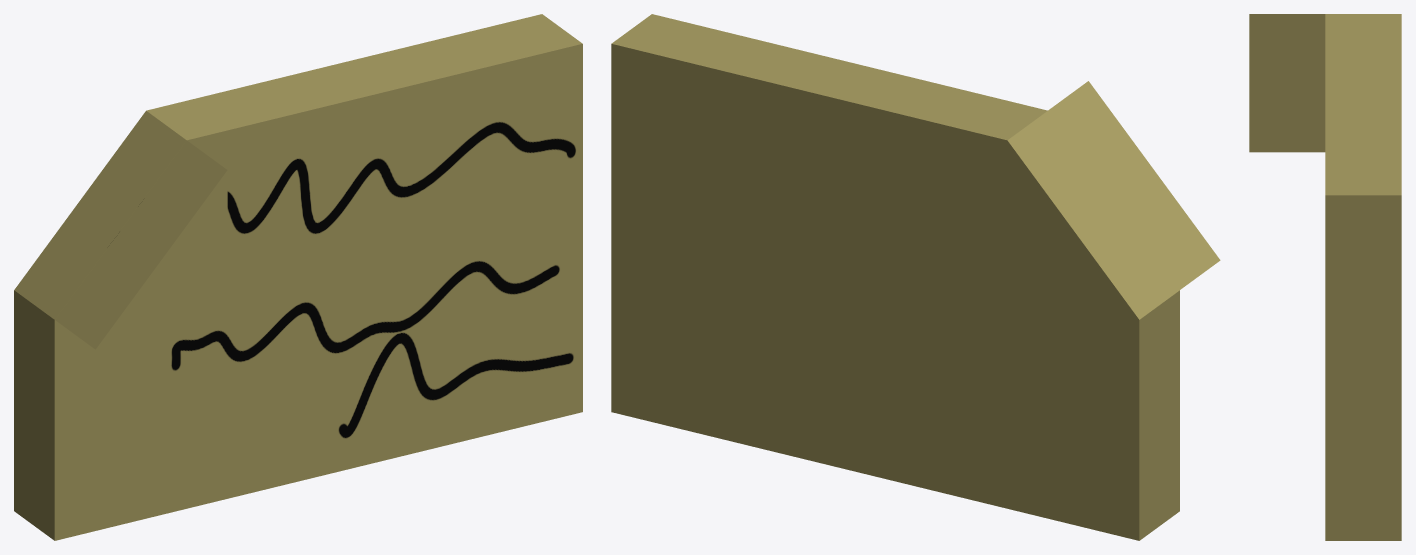
Rendered from notecard.fbx.
The picture shows the model from 3 angles, left to right: view 1: azimuth 30°, elevation 25°; view 2: azimuth 150°, elevation 25°; view 3: azimuth 270°, elevation 25°; orthographic projection. The views are drawn at different scales.
Parts seen in each view (by area): view 1: pCube1, pCube2; view 2: pCube1, pCube2; view 3: pCube1, pCube2.
Boxes of the visible parts, x1,y1,x2,y2 form: pCube1: [14, 14, 582, 540]; pCube2: [55, 140, 227, 349]; pCube1: [611, 14, 1179, 540]; pCube2: [1048, 81, 1220, 289]; pCube1: [1325, 14, 1401, 540]; pCube2: [1249, 14, 1325, 152].
Bounding box in the file's own units: 1.5 × 1 × 0.4.
